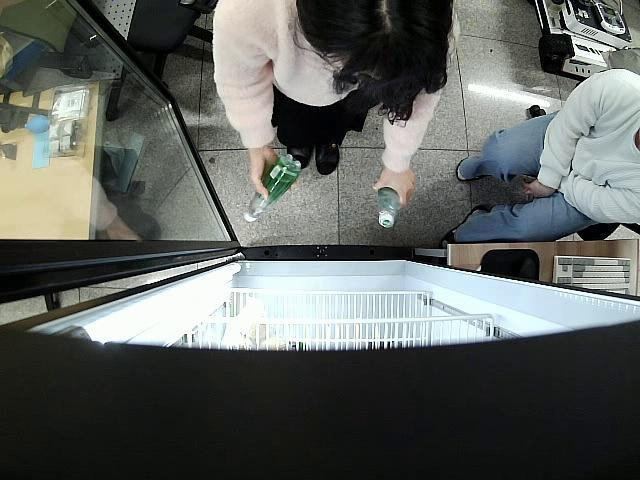18_trevi: (242, 156, 302, 224), (379, 182, 403, 231)
